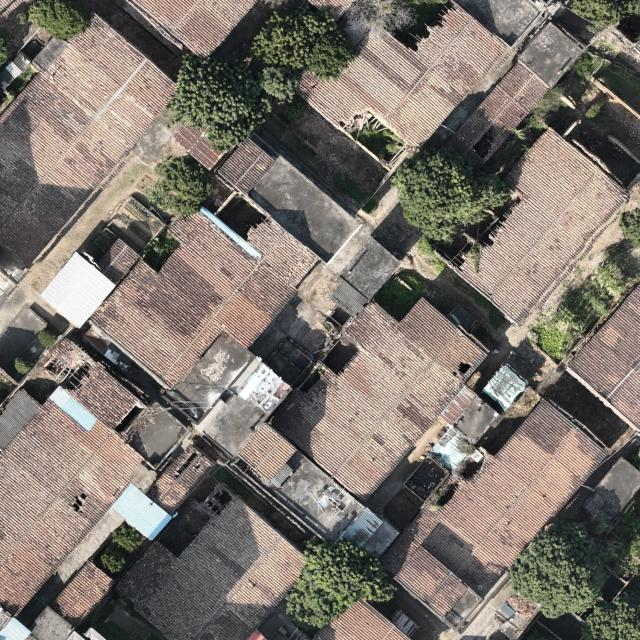Tree: (391, 142, 514, 247), (160, 52, 274, 154), (284, 534, 398, 629), (510, 516, 612, 620), (248, 1, 358, 82), (144, 155, 215, 218), (579, 586, 640, 640), (16, 0, 93, 42), (344, 0, 421, 39), (256, 65, 304, 105), (619, 207, 640, 248), (0, 26, 18, 67), (503, 630, 568, 640), (37, 326, 58, 348), (13, 353, 32, 375)
